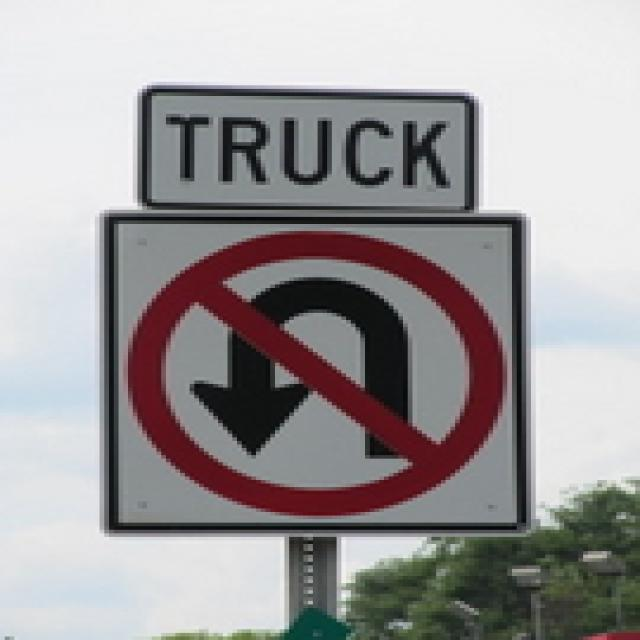no u turn: (124, 224, 514, 526)
